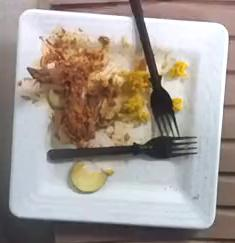pork: (27, 26, 149, 146)
rice: (118, 70, 150, 124), (165, 61, 188, 80), (172, 97, 184, 112)
